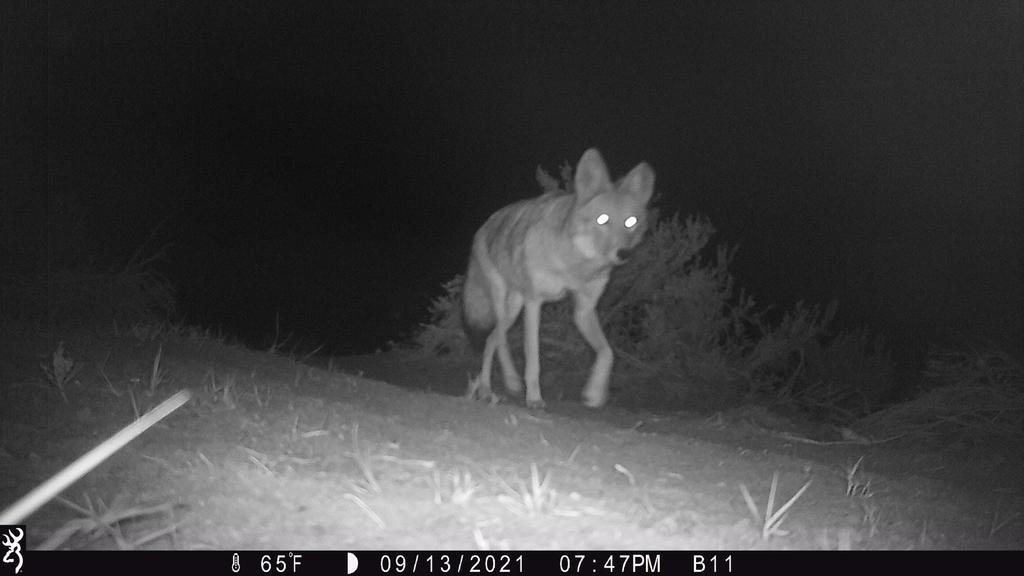Coyote: (458, 144, 660, 414)
